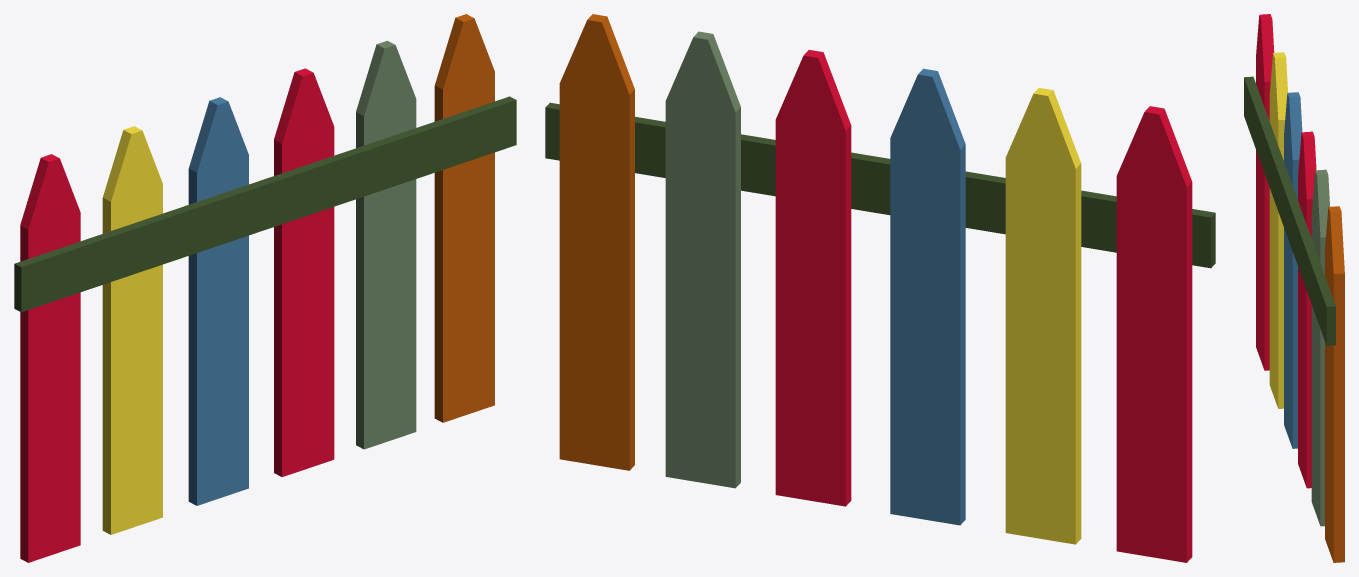
Rendered from Playground Fencing.fbx.
The picture shows the model from 3 angles, left to right: view 1: azimuth 30°, elevation 25°; view 2: azimuth 150°, elevation 25°; view 3: azimuth 270°, elevation 25°; orthographic projection. The views are drawn at different scales.
Visible parts, largest first — view 1: Playground Fencing; view 2: Playground Fencing; view 3: Playground Fencing.
Boxes of the visible parts, x1,y1,x2,y2 form: Playground Fencing: [14, 14, 516, 562]; Playground Fencing: [545, 14, 1215, 562]; Playground Fencing: [1244, 14, 1344, 562].
Size of the model in its own units: 274 by 50.74 by 190.
